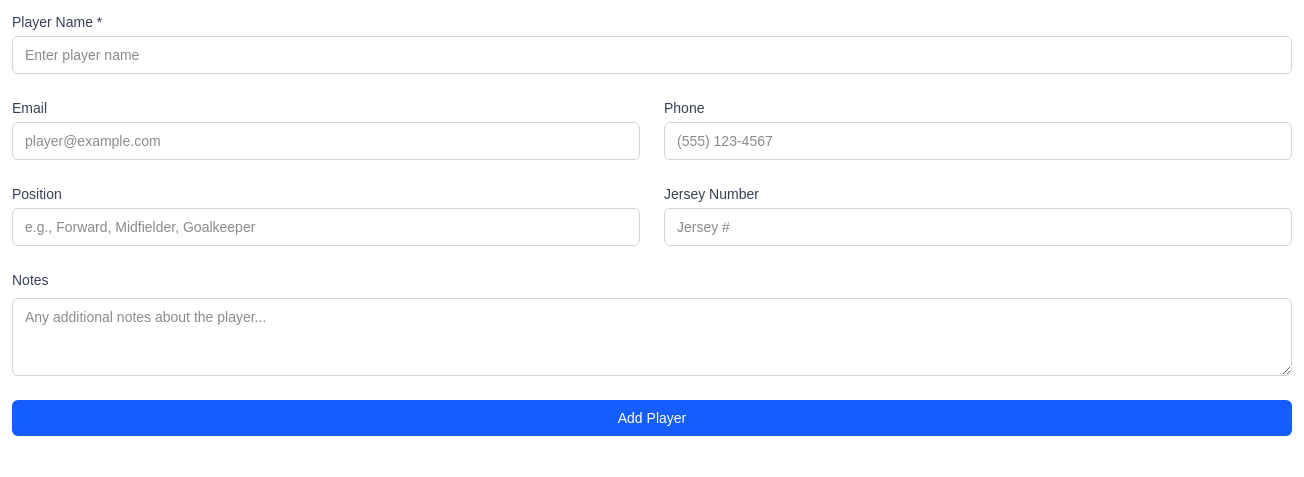
Scenario: PlayerForm › validates jersey number is unique
Type "Test Player" into the field with placeholder "Enter player name". click: {"x": 652, "y": 55}
box: [12,36,1292,74]
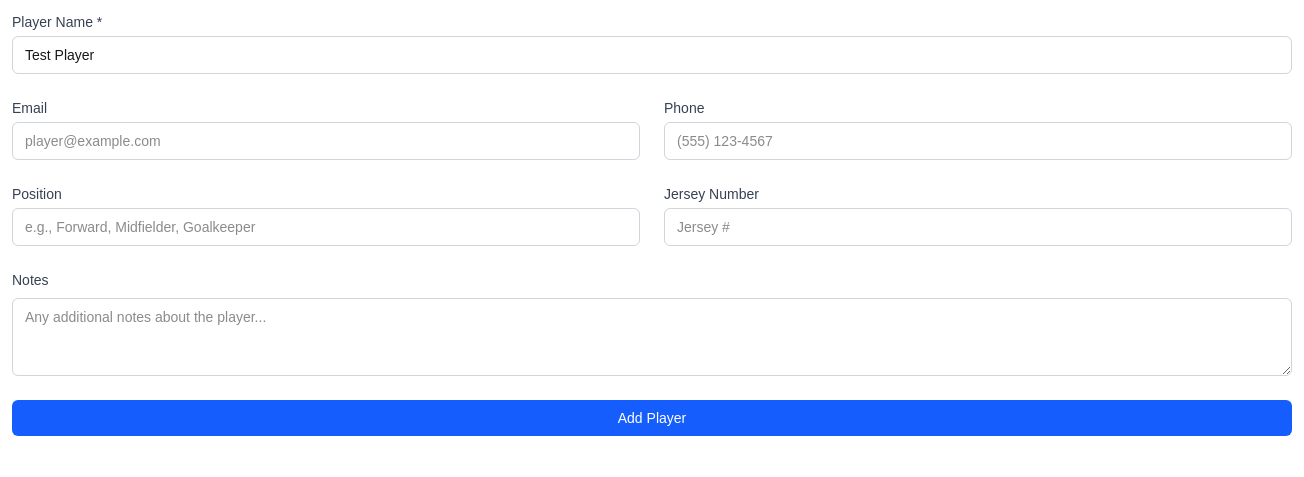
Type "10" into the number field with placeholder "Jersey #". click: {"x": 978, "y": 227}
box: [664,208,1292,246]
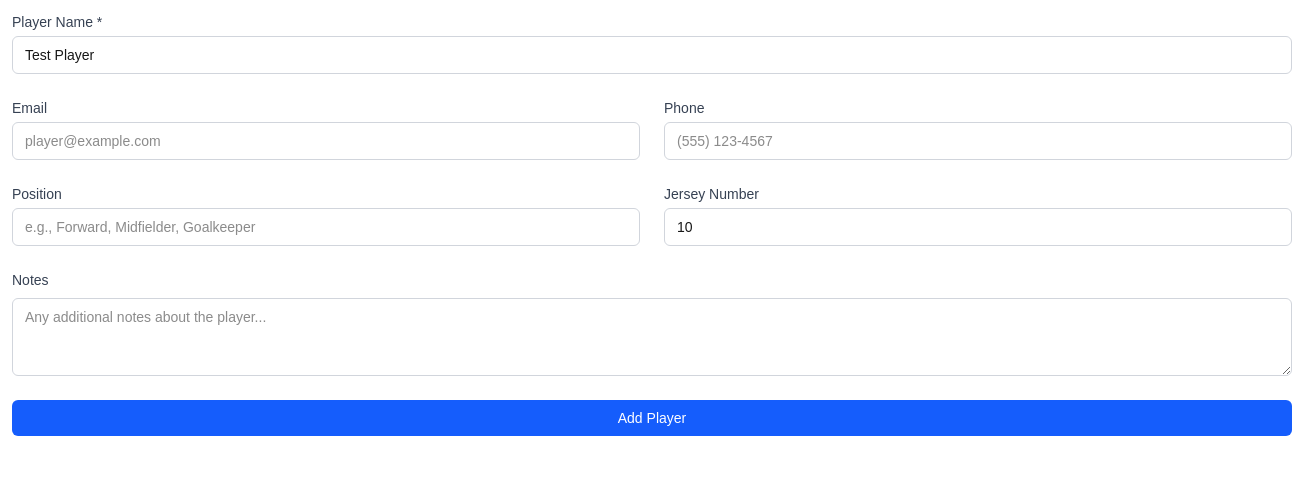
Click the button "Add Player". click: {"x": 652, "y": 418}
box: [12,400,1292,436]
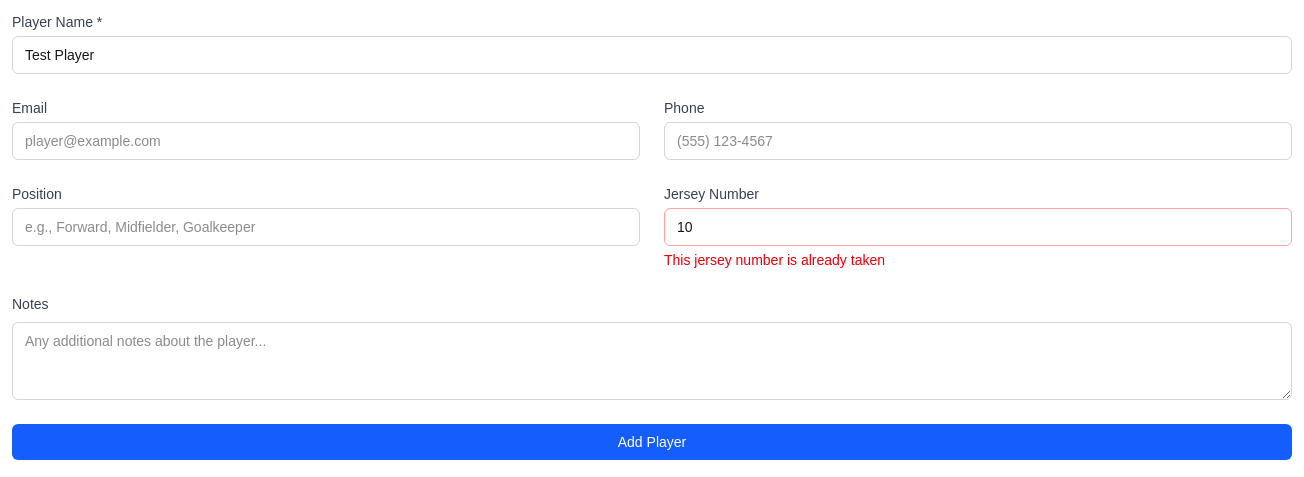
Check: the text "This jersey number is already taken" is shown, box [664,252,885,268]
